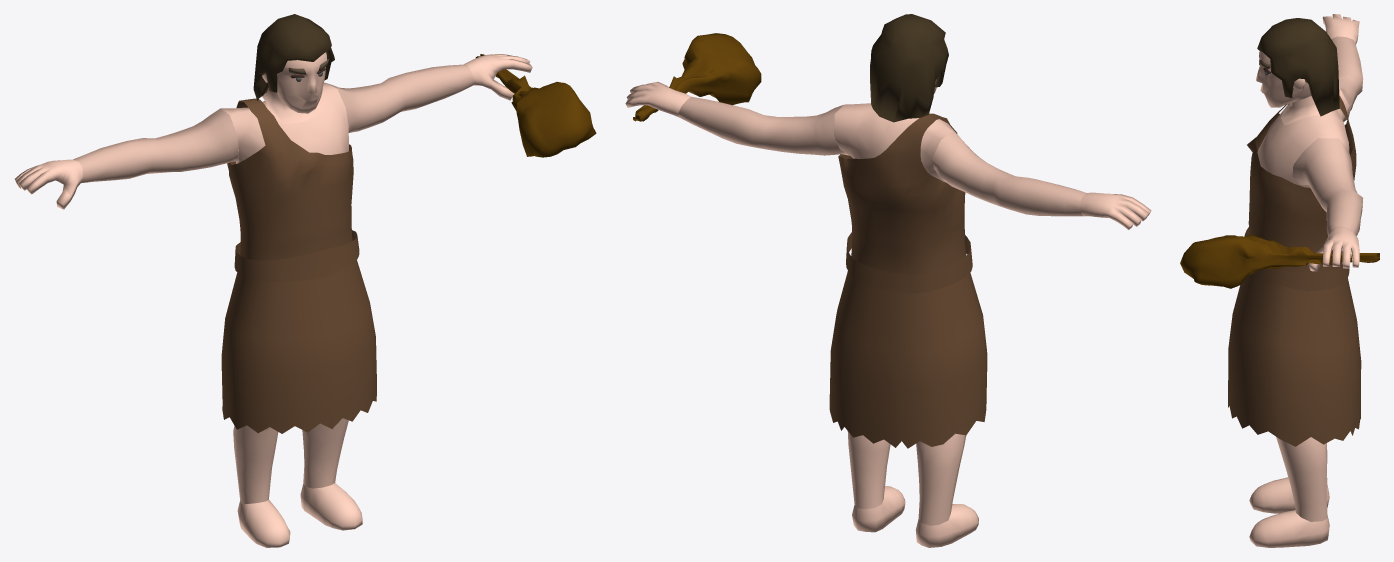
The model's file is T Pose.fbx.
3 renders of one model, left to right at view 1: azimuth 30°, elevation 25°; view 2: azimuth 150°, elevation 25°; view 3: azimuth 270°, elevation 25°, orthographic.
Visible parts, largest first — view 1: Body_Chest.002; view 2: Body_Chest.002; view 3: Body_Chest.002.
Part boxes in pixels (bbox=[...]): Body_Chest.002: bbox=[14, 14, 596, 547]; Body_Chest.002: bbox=[625, 14, 1151, 547]; Body_Chest.002: bbox=[1180, 14, 1379, 547].
Bounding box in the file's own units: 2504 × 2362 × 854.
